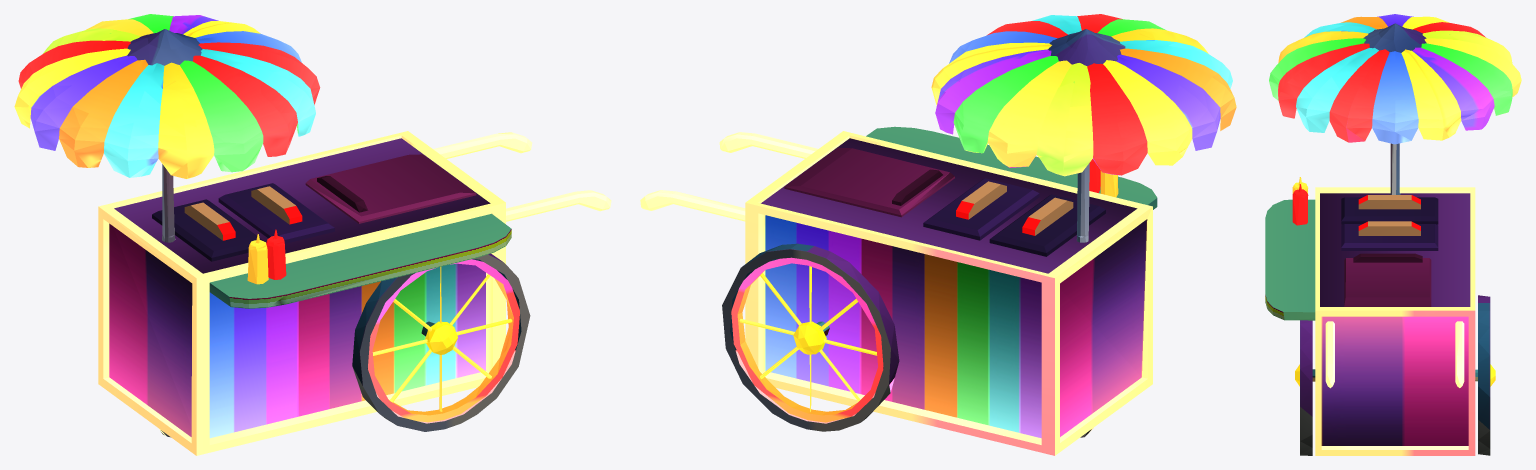
Rendered from grid1-smallfood1.glb.
3 renders of one model, left to right at view 1: azimuth 30°, elevation 25°; view 2: azimuth 150°, elevation 25°; view 3: azimuth 270°, elevation 25°, orthographic. The views are drawn at different scales.
Parts seen in each view (by area): view 1: Cylinder.003_HotDog_0; view 2: Cylinder.003_HotDog_0; view 3: Cylinder.003_HotDog_0.
Part boxes in pixels (x1=…): Cylinder.003_HotDog_0: x1=14, y1=14, x2=611, y2=455; Cylinder.003_HotDog_0: x1=640, y1=14, x2=1236, y2=455; Cylinder.003_HotDog_0: x1=1265, y1=14, x2=1521, y2=455.
Bounding box in the file's own units: 0.7607 × 0.5575 × 0.3848.
1 material, 1 textured.
